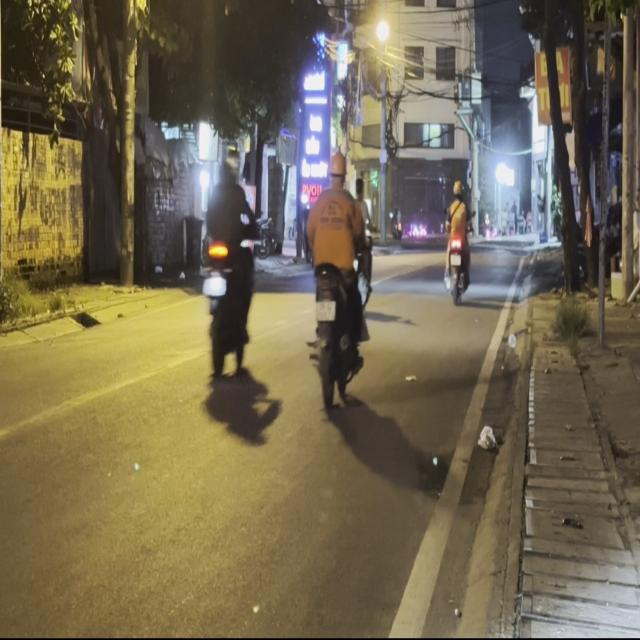helmet: (221, 140, 241, 179), (327, 148, 346, 183)
licenseplate: (304, 146, 372, 405), (198, 134, 258, 378)
nohelmet: (202, 275, 226, 294), (315, 300, 335, 320)
